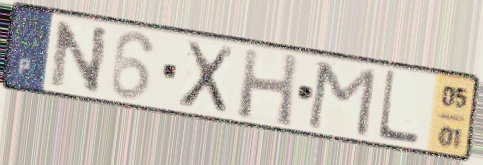6: (107, 29, 160, 103)
H: (235, 45, 301, 130)
L: (374, 68, 421, 148)
M: (303, 59, 380, 140)
N: (48, 19, 112, 97)
X: (175, 38, 238, 116)
